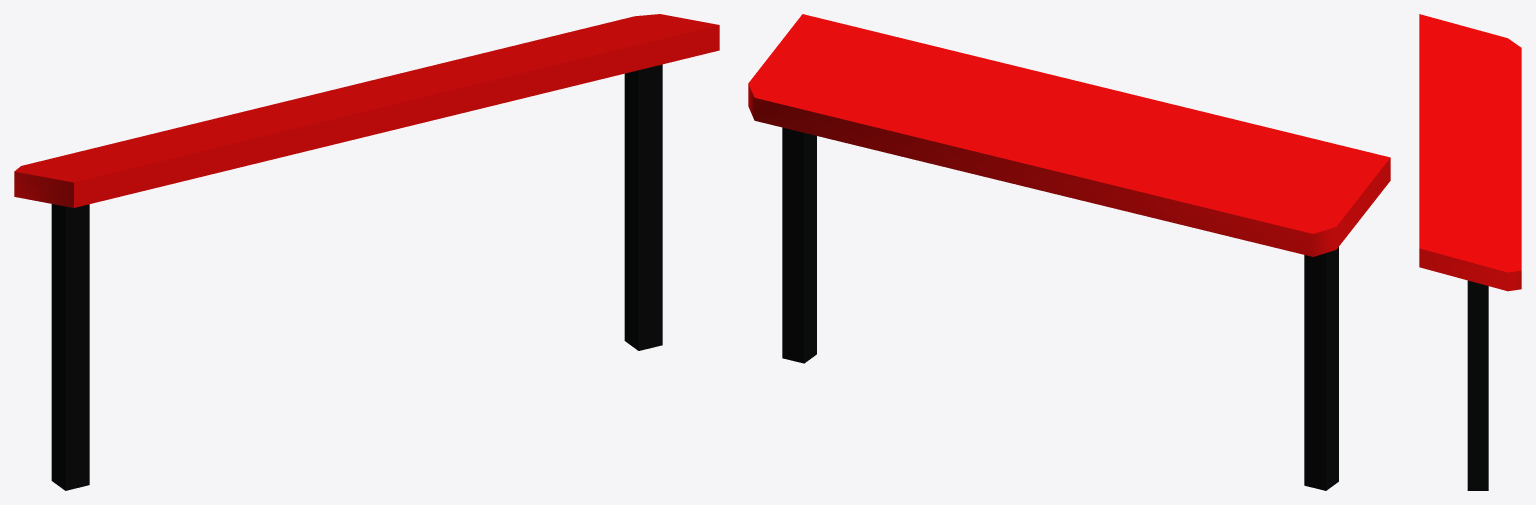
File: detail-awning-wide.glb
3 renders of one model, left to right at view 1: azimuth 30°, elevation 25°; view 2: azimuth 150°, elevation 25°; view 3: azimuth 270°, elevation 25°, orthographic. The views are drawn at different scales.
Visible parts, largest first — view 1: detail-awning-wide; view 2: detail-awning-wide; view 3: detail-awning-wide.
Part boxes in pixels (x1,y1,x2,y2): detail-awning-wide: (14,14,719,490); detail-awning-wide: (748,14,1390,490); detail-awning-wide: (1419,14,1521,490).
Size of the model in its own units: 0.8 by 0.4003 by 0.1477.
Materials: 1 (1 with a texture image).
